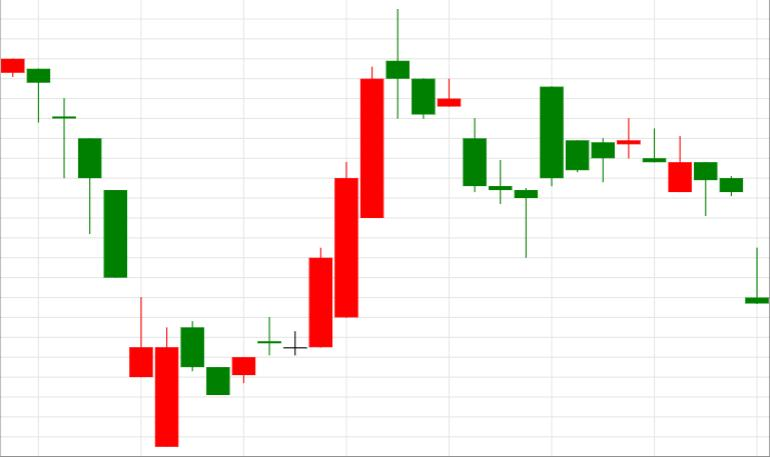evening_star_fall: (231, 9, 434, 383)
inverse_hammer_rise: (1, 59, 153, 377)
